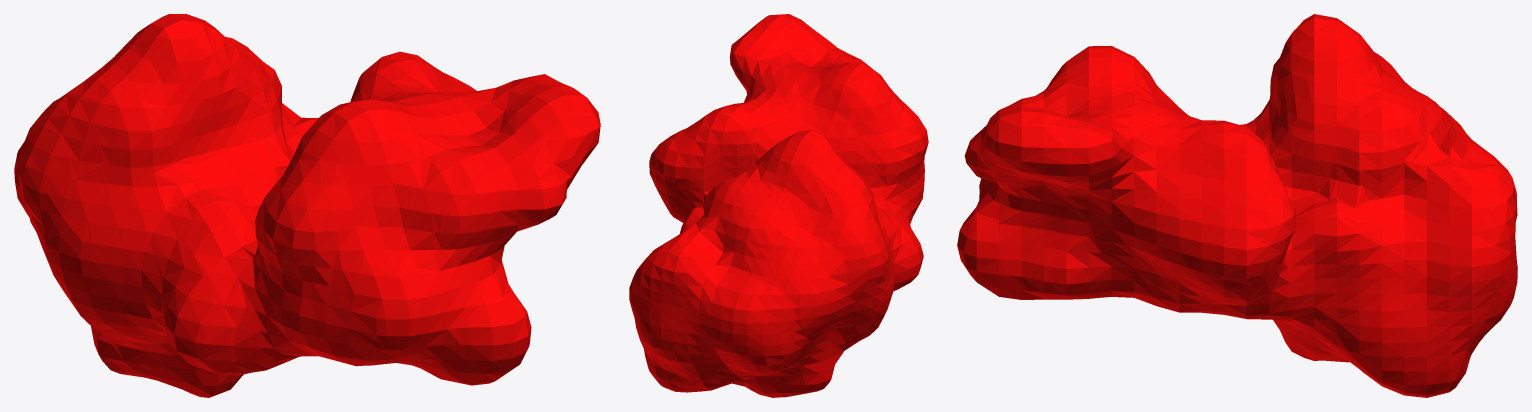
File: dapB_coarse.dae
The picture shows the model from 3 angles, left to right: view 1: azimuth 30°, elevation 25°; view 2: azimuth 150°, elevation 25°; view 3: azimuth 270°, elevation 25°; orthographic projection. The views are drawn at different scales.
Visible parts, largest first — view 1: dapB; view 2: dapB; view 3: dapB.
Boxes of the visible parts, left/top/right/bottom form: dapB: left=14, top=14, right=600, bottom=397; dapB: left=629, top=14, right=928, bottom=397; dapB: left=957, top=14, right=1517, bottom=397.
Bounding box in the file's own units: 51.11 × 44.92 × 69.29.
